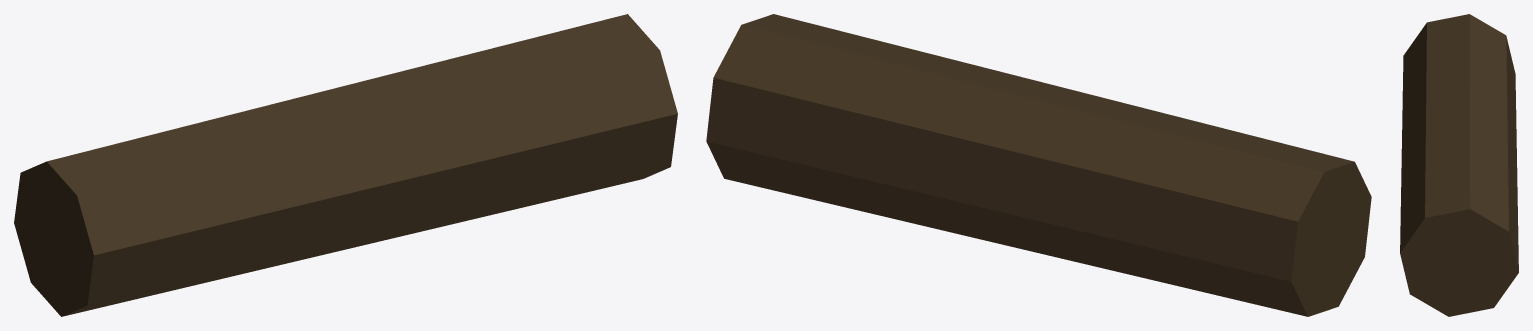
File: Log.fbx
3 renders of one model, left to right at view 1: azimuth 30°, elevation 25°; view 2: azimuth 150°, elevation 25°; view 3: azimuth 270°, elevation 25°, orthographic. The views are drawn at different scales.
Visible parts, largest first — view 1: Log; view 2: Log; view 3: Log.
Boxes of the visible parts, x1=… form: Log: x1=14, y1=14, x2=677, y2=316; Log: x1=706, y1=14, x2=1371, y2=316; Log: x1=1400, y1=14, x2=1518, y2=316.
Bounding box in the file's own units: 260 × 65.85 × 65.85.
